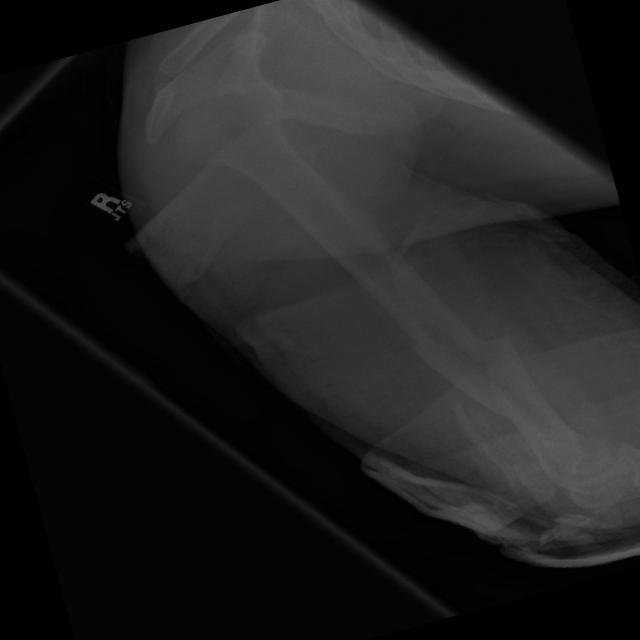humerus fracture: (357, 255, 594, 498)
